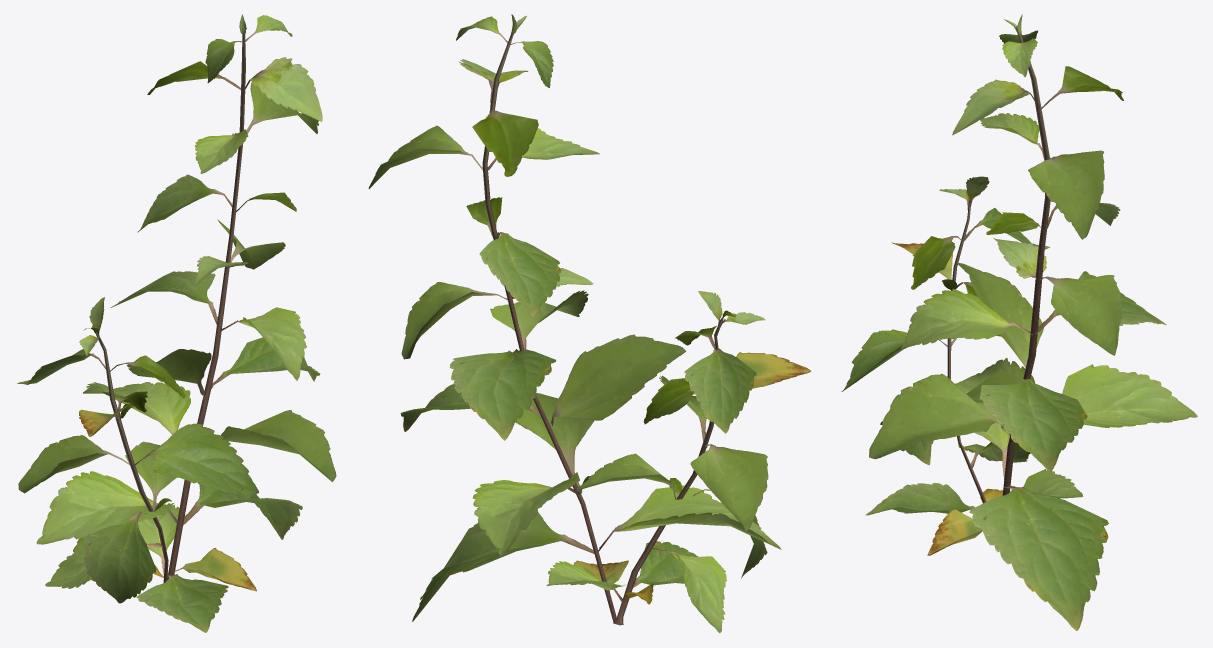
File: shrub_a.glb
3 views of the same model, side by side, from view 1: azimuth 30°, elevation 25°; view 2: azimuth 150°, elevation 25°; view 3: azimuth 270°, elevation 25° (orthographic). The views are drawn at different scales.
Parts seen in each view (by area): view 1: Forest_shrub_a; view 2: Forest_shrub_a; view 3: Forest_shrub_a.
Part boxes in pixels (x1,y1,x2,y2): Forest_shrub_a: (17, 14, 336, 632); Forest_shrub_a: (368, 14, 811, 633); Forest_shrub_a: (841, 14, 1197, 630).
Size of the model in its own units: 0.2308 by 0.3719 by 0.2057.
1 material, 1 textured.
